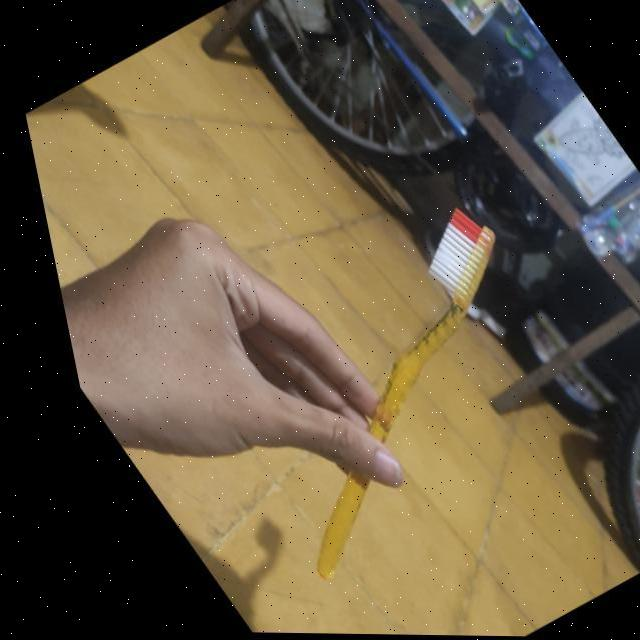toothbrush: (96, 160, 640, 640)
